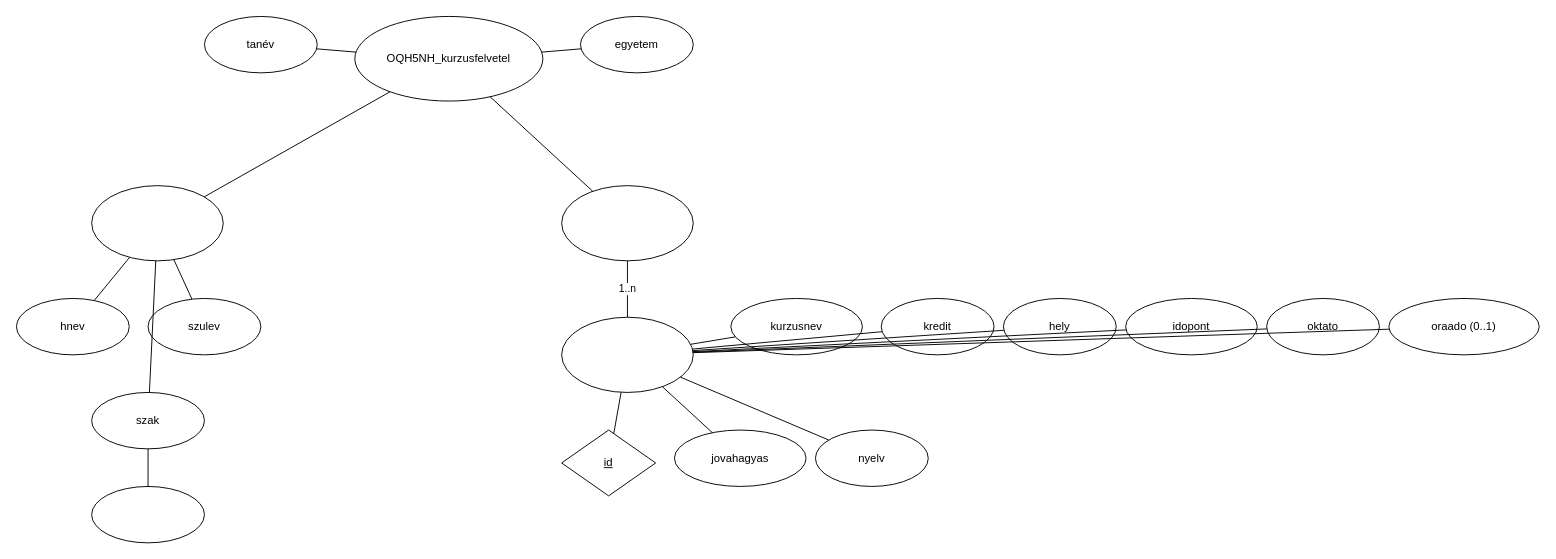
This 1556x559 diagram has some shape labels left out. The centre of each missing label's shape, as x and y in pixels:
"evf" goes at [147,514].
"hallgato" goes at [157,223].
"kurzus" goes at [627,354].
"kurzusok" goes at [627,223].
